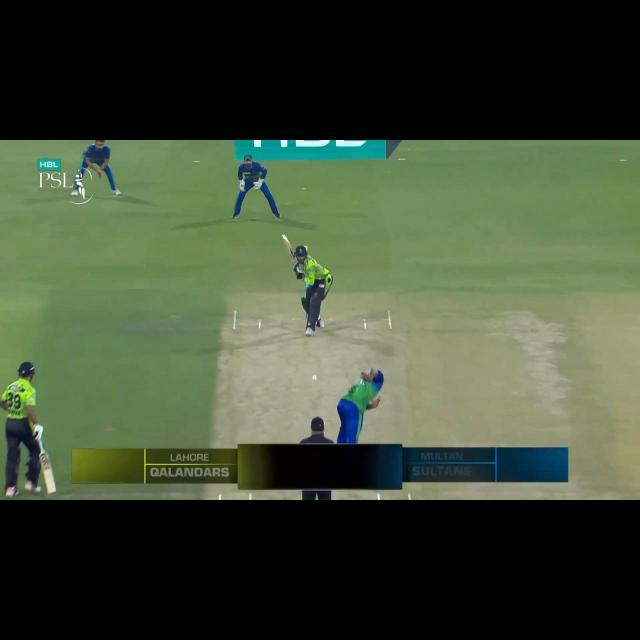bat: (35, 452, 58, 495), (280, 235, 296, 260)
toe: (45, 485, 58, 494), (280, 233, 287, 240)
